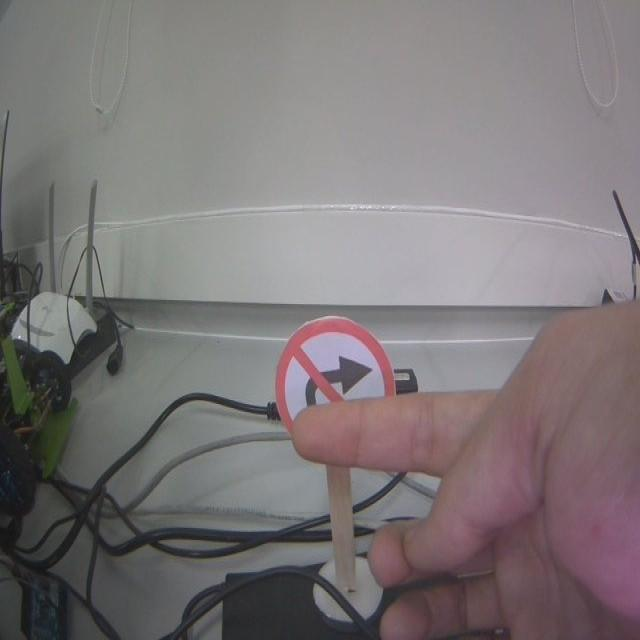Dilarang Belok Kanan: (275, 315, 395, 402)
